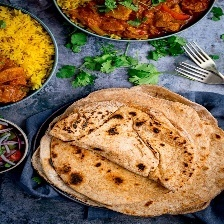sabzi: (50, 0, 219, 40)
